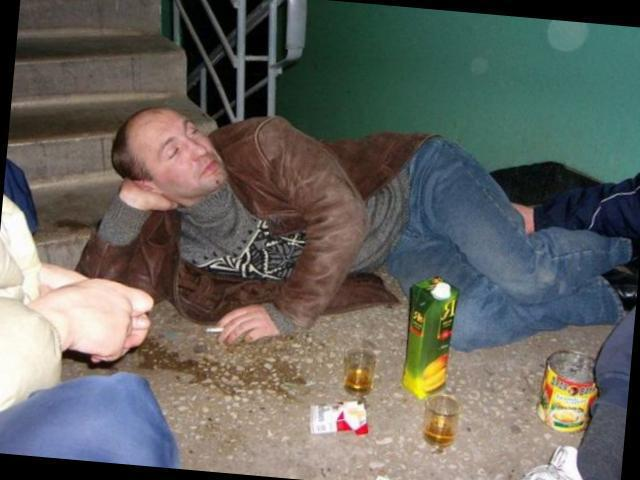Drunk: (129, 107, 225, 195)
